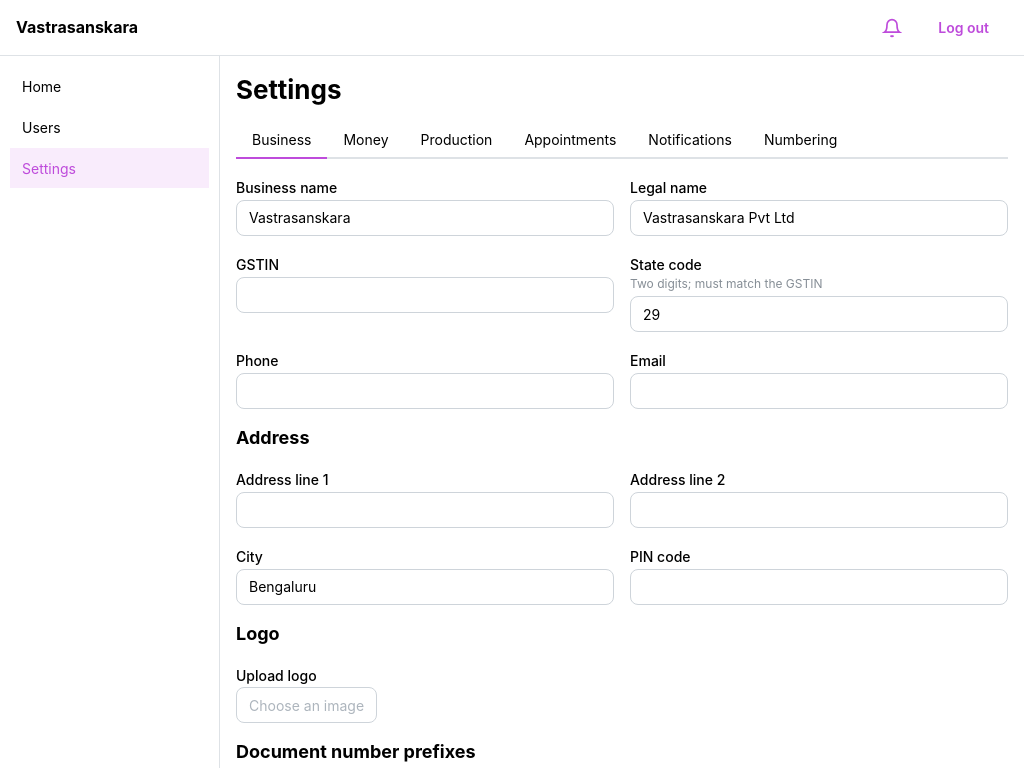
Test case: money: B2CL threshold is entered in rupees and saved in paise
Click the tab "Money" at (366, 141), box [327,123,404,159]
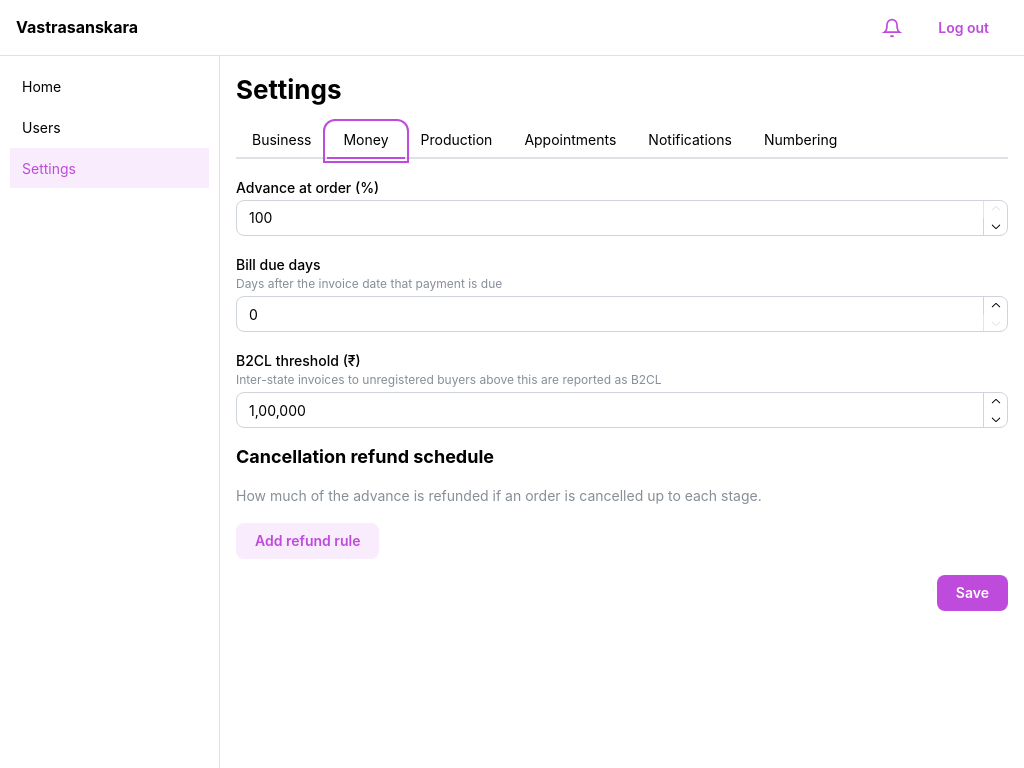
Now the field labelled "B2CL threshold (₹)" holds "1,00,000"
Replace the text in the field labelled "B2CL threshold (₹)" with "250000" at (622, 410), box [236,392,1008,428]
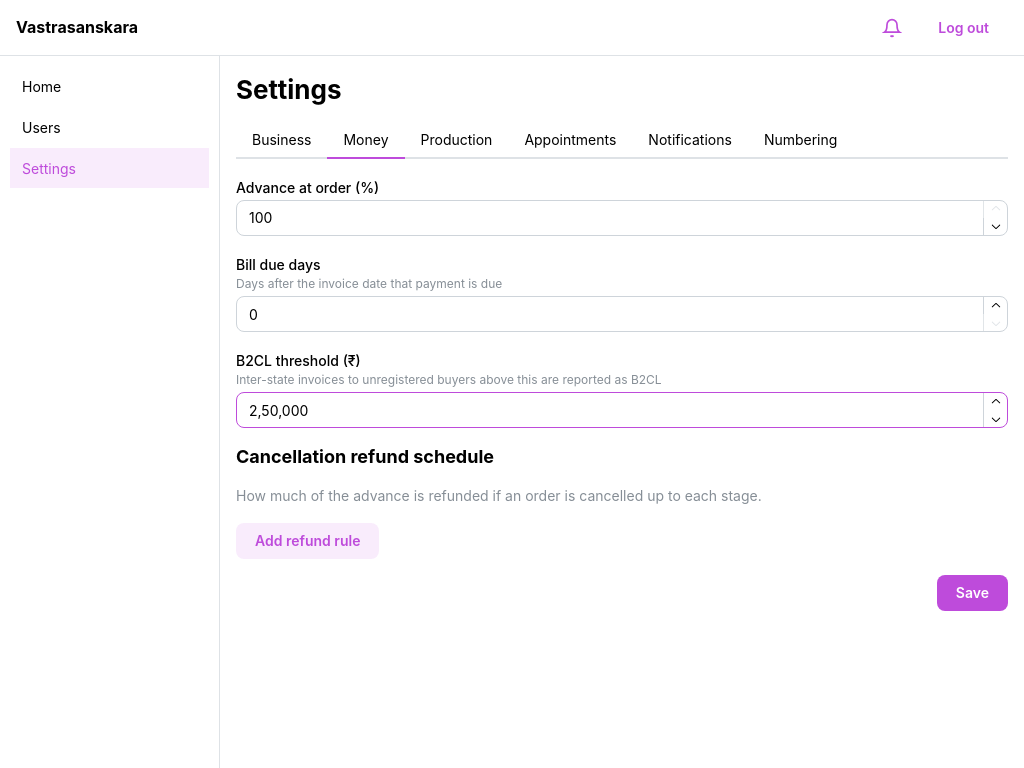
Click the button "Save" at (972, 593), box [937,575,1008,611]
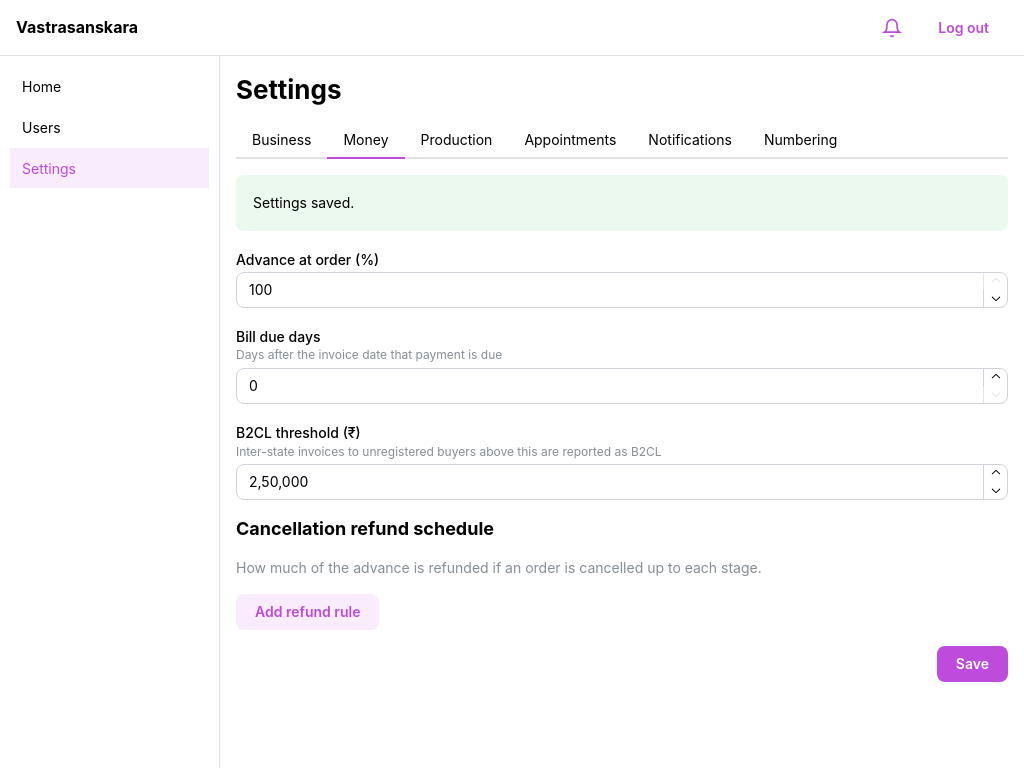
Now the text "Settings saved." is shown, box [253,194,354,211]
